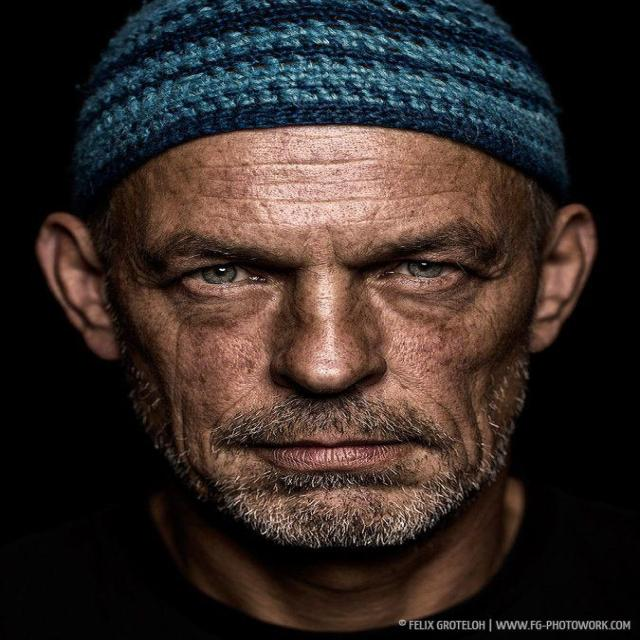Wrinkles: (201, 156, 467, 204), (170, 310, 211, 418), (169, 157, 443, 172), (464, 366, 487, 473), (217, 176, 408, 186), (257, 129, 396, 140), (180, 390, 195, 468)
